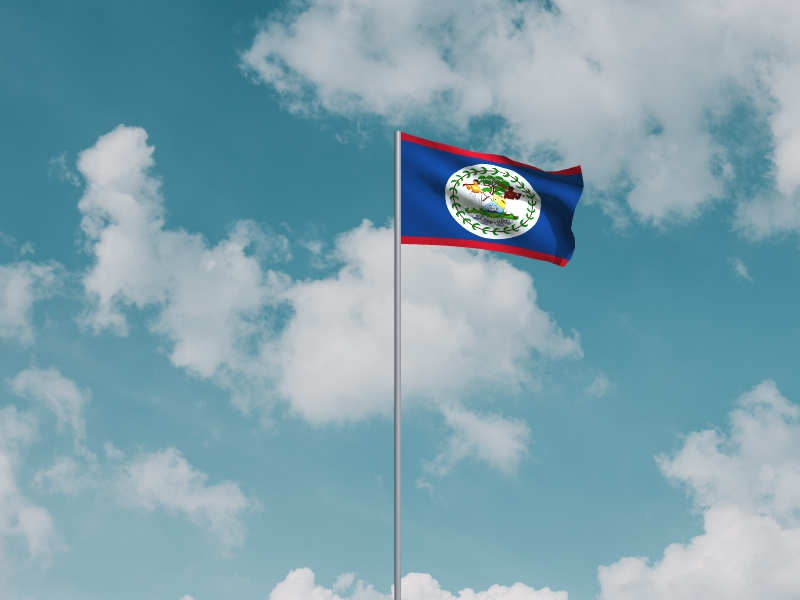bz: (402, 133, 586, 268)
